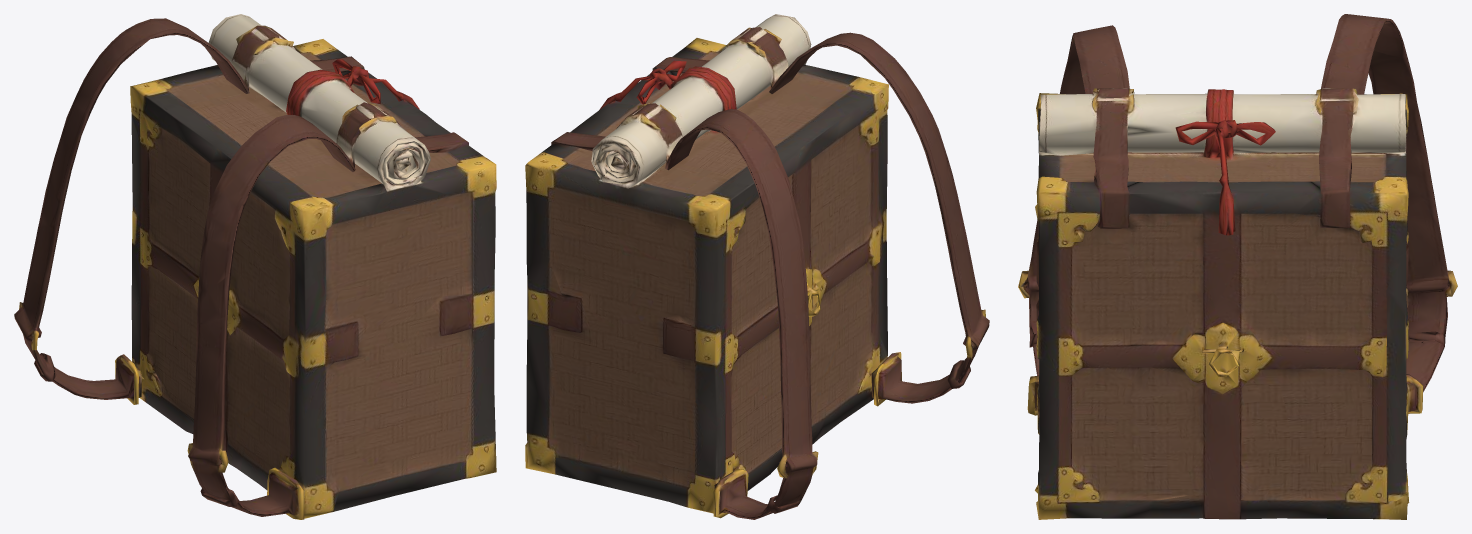
Rendered from book_chest.glb.
The picture shows the model from 3 angles, left to right: view 1: azimuth 30°, elevation 25°; view 2: azimuth 150°, elevation 25°; view 3: azimuth 270°, elevation 25°; orthographic projection. The views are drawn at different scales.
Visible parts, largest first — view 1: kusuriuri; view 2: kusuriuri; view 3: kusuriuri.
Boxes of the visible parts, x1,y1,x2,y2 form: kusuriuri: (14, 14, 496, 519); kusuriuri: (525, 14, 989, 519); kusuriuri: (1018, 14, 1457, 519).
Size of the model in its own units: 0.4657 by 0.55 by 0.5382.
1 material, 1 textured.
